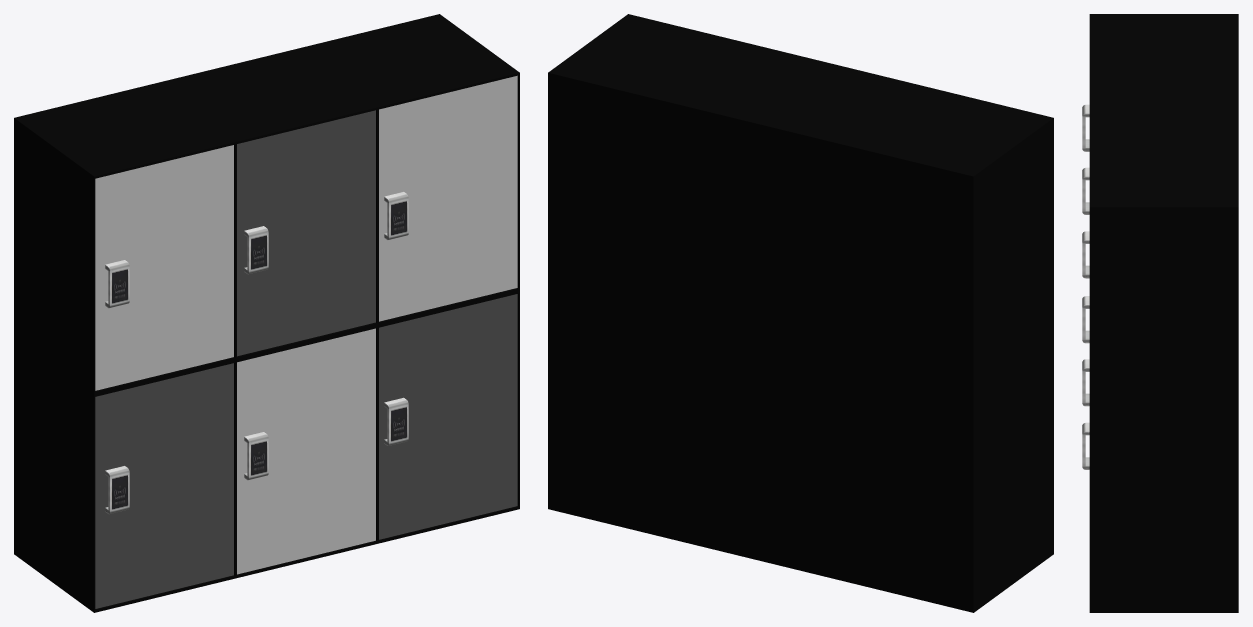
Rendered from Locker.fbx.
3 renders of one model, left to right at view 1: azimuth 30°, elevation 25°; view 2: azimuth 150°, elevation 25°; view 3: azimuth 270°, elevation 25°, orthographic. The views are drawn at different scales.
Parts seen in each view (by area): view 1: Locker; view 2: Locker; view 3: Locker.
Boxes of the visible parts, x1,y1,x2,y2 form: Locker: (14, 14, 519, 612); Locker: (548, 14, 1053, 612); Locker: (1082, 14, 1238, 612).
Bounding box in the file's own units: 490 × 480 × 168.
